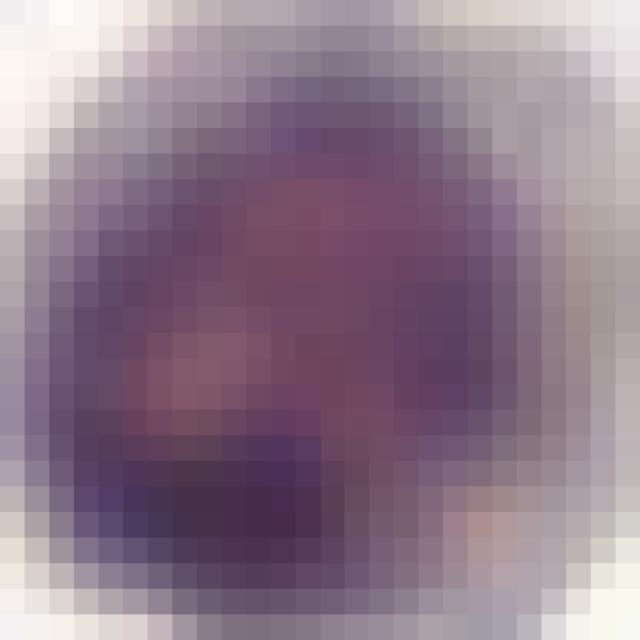cytoplasm: (0, 10, 615, 614)
